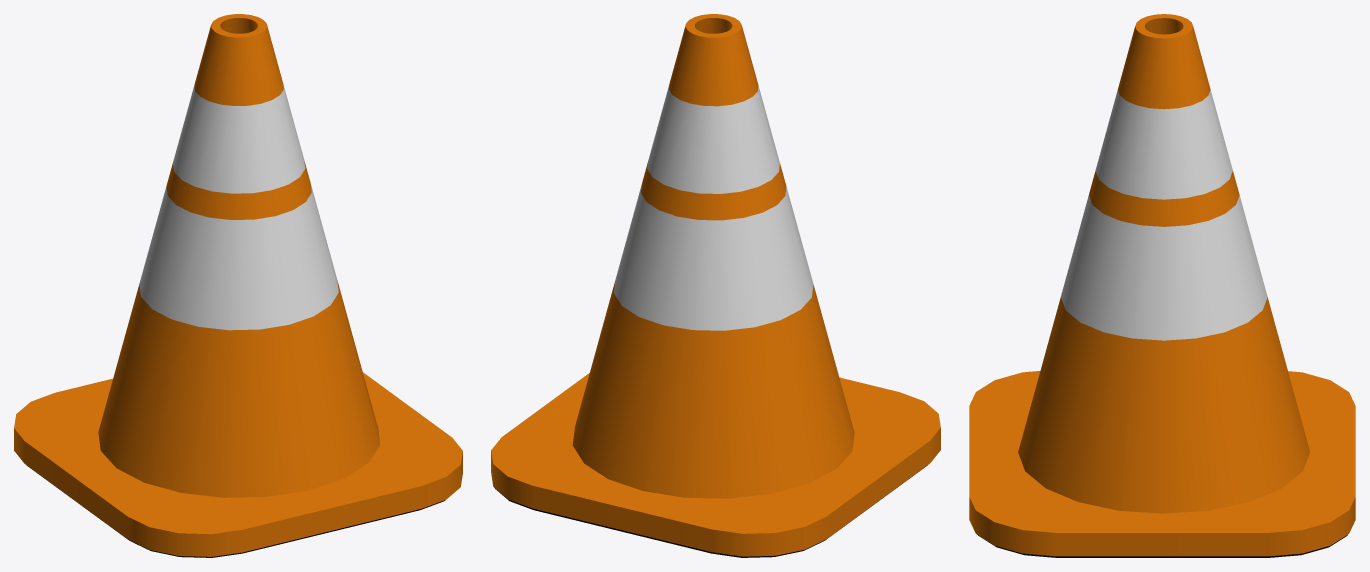
Rendered from M_3_trafficcone1.fbx.
3 renders of one model, left to right at view 1: azimuth 30°, elevation 25°; view 2: azimuth 150°, elevation 25°; view 3: azimuth 270°, elevation 25°, orthographic. The views are drawn at different scales.
Parts seen in each view (by area): view 1: pasted__pPipe2, pasted__polySurface3, pasted__polySurface4; view 2: pasted__pPipe2, pasted__polySurface3, pasted__polySurface4; view 3: pasted__pPipe2, pasted__polySurface3, pasted__polySurface4.
Boxes of the visible parts, bbox=[...] form: pasted__pPipe2: bbox=[98, 14, 379, 497]; pasted__polySurface3: bbox=[14, 372, 462, 556]; pasted__polySurface4: bbox=[28, 466, 445, 557]; pasted__pPipe2: bbox=[572, 14, 854, 498]; pasted__polySurface3: bbox=[491, 373, 940, 556]; pasted__polySurface4: bbox=[495, 465, 927, 557]; pasted__pPipe2: bbox=[1018, 14, 1309, 513]; pasted__polySurface3: bbox=[969, 371, 1355, 556]; pasted__polySurface4: bbox=[978, 535, 1347, 557].
Size of the model in its own units: 3.08 by 3.96 by 3.08.
